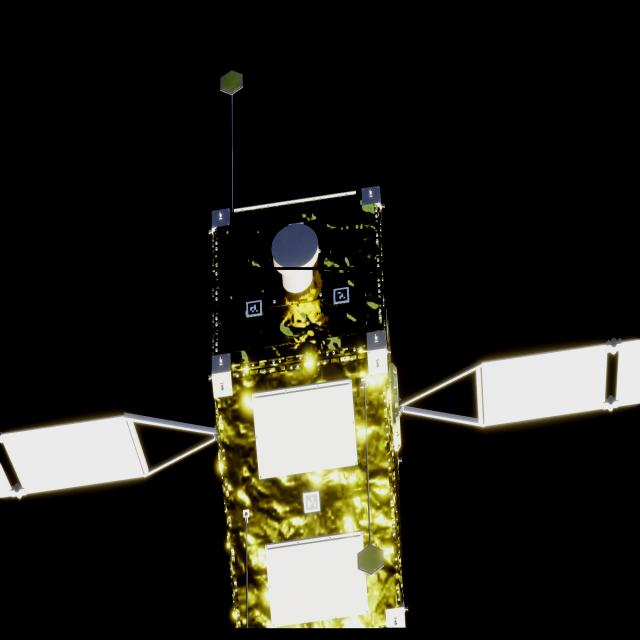medium_debris: (0, 187, 640, 628)
